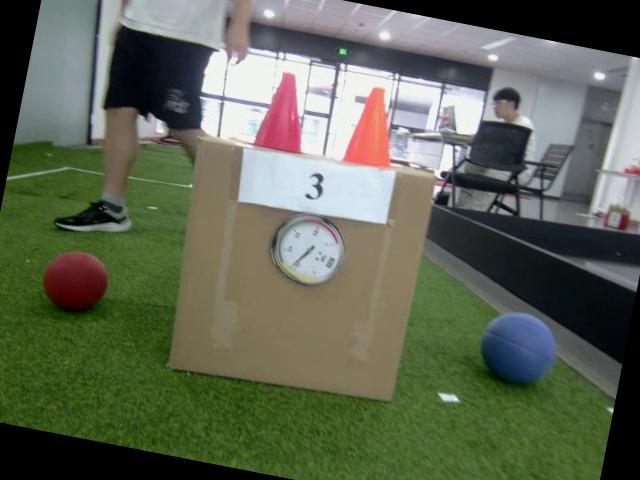3: (303, 170, 327, 204)
Dashboard: (264, 209, 351, 292)
blue_ball: (476, 308, 559, 390)
orange_barrel: (342, 82, 408, 168)
red_ball: (40, 247, 111, 314)
red_barrel: (256, 68, 316, 153)
ssi: (322, 253, 336, 272)
